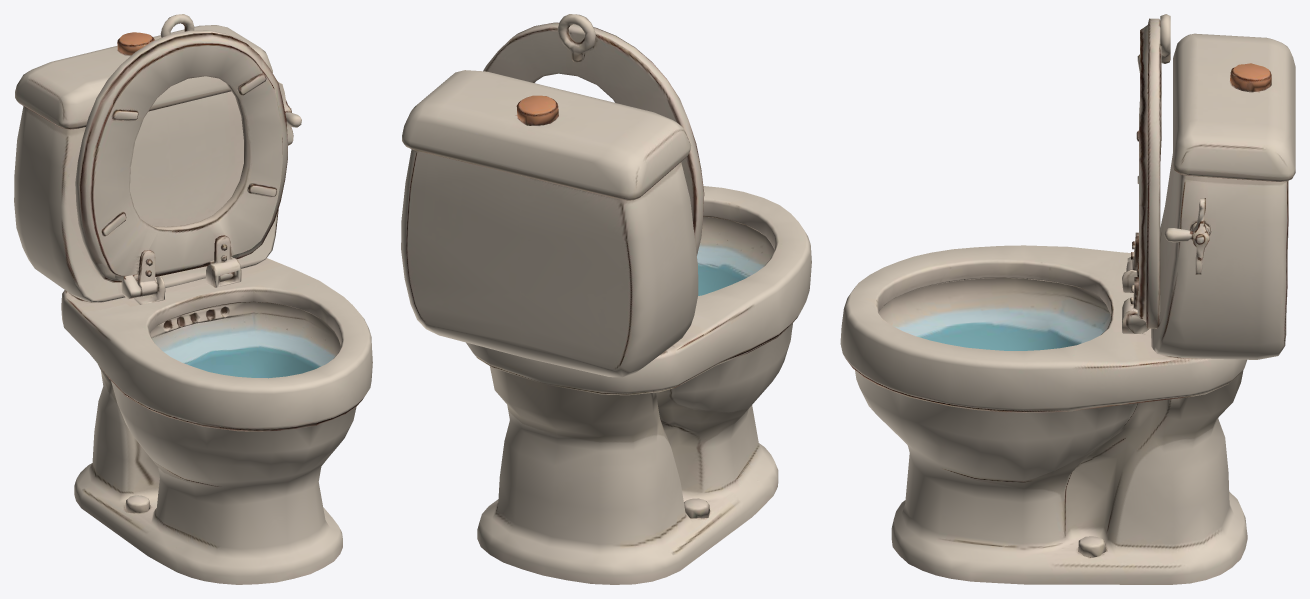
The model's file is selected.glb.
3 views of the same model, side by side, from view 1: azimuth 30°, elevation 25°; view 2: azimuth 150°, elevation 25°; view 3: azimuth 270°, elevation 25° (orthographic). The views are drawn at different scales.
Visible parts, largest first — view 1: tripo_node_fbf5adc2-c7c3-40ec-b143-605a852d4e94; view 2: tripo_node_fbf5adc2-c7c3-40ec-b143-605a852d4e94; view 3: tripo_node_fbf5adc2-c7c3-40ec-b143-605a852d4e94.
Boxes of the visible parts, x1,y1,x2,y2 form: tripo_node_fbf5adc2-c7c3-40ec-b143-605a852d4e94: [14, 14, 372, 584]; tripo_node_fbf5adc2-c7c3-40ec-b143-605a852d4e94: [401, 14, 811, 584]; tripo_node_fbf5adc2-c7c3-40ec-b143-605a852d4e94: [840, 14, 1295, 584].
Bounding box in the file's own units: 0.5488 × 0.998 × 0.7832.
1 material, 1 textured.
